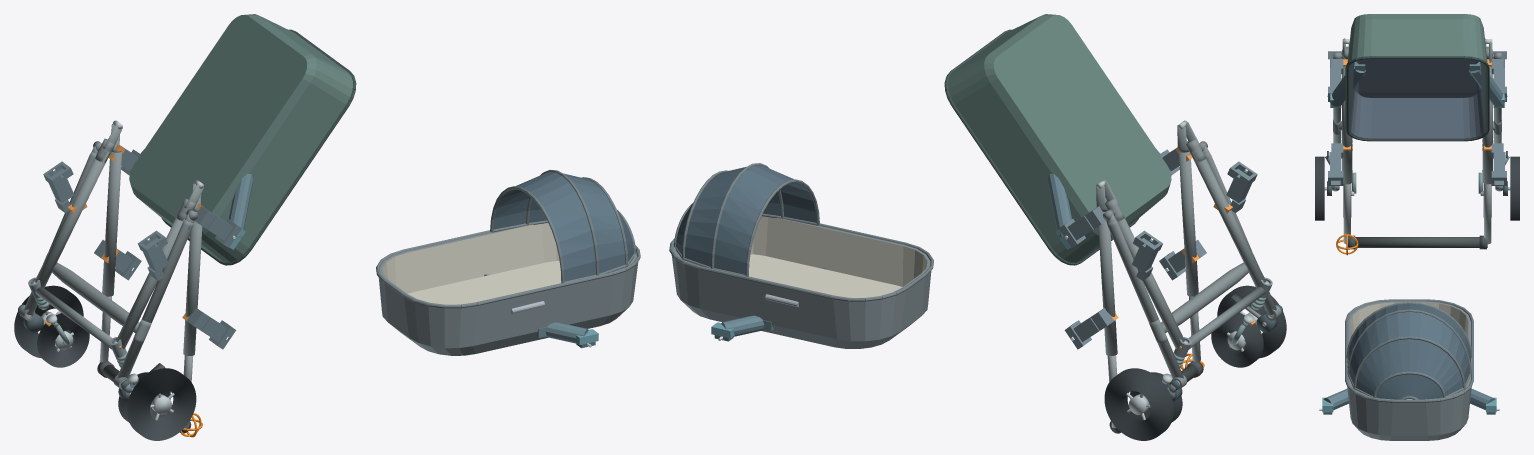
File: D09_w550_state3_wheel_S.glb
3 renders of one model, left to right at view 1: azimuth 30°, elevation 25°; view 2: azimuth 150°, elevation 25°; view 3: azimuth 270°, elevation 25°, orthographic. The views are drawn at different scales.
Visible parts, largest first — view 1: D09_Upper, D09_Lower, RL_tire.004, main_upper_1.005, main_lower_1.005, FR_tire.004, V46_rear_leg_-1.005, main_upper_-1.005, V46_rearbar.005, RR_tire.004, main_lower_-1.005, D09_Upper_Mount_H (+8 smaller); view 2: D09_Upper, D09_Lower, RR_tire.004, main_upper_-1.005, main_lower_-1.005, FL_tire.004, V46_rear_leg_1.005, main_upper_1.005, V46_rearbar.005, main_lower_1.005, RL_tire.004, D09_Upper_Mount_H (+8 smaller); view 3: D09_Lower, D09_Upper, round_handle.004, D09_Lower_Mount_M, D09_Upper_Mount_H, main_upper_1.005, main_upper_-1.005, RL_tire.004, RR_tire.004, Universal_Cabin_Receiver_H_1, Universal_Cabin_Receiver_H_-1, handle_slider_1.004 (+4 smaller).
Boxes of the visible parts, x1=… form: D09_Upper: x1=376, y1=169, x2=640, y2=355; D09_Lower: x1=129, y1=14, x2=356, y2=265; RL_tire.004: x1=127, y1=368, x2=196, y2=440; main_upper_1.005: x1=102, y1=151, x2=121, y2=296; main_lower_1.005: x1=35, y1=151, x2=109, y2=287; FR_tire.004: x1=37, y1=313, x2=89, y2=367; V46_rear_leg_-1.005: x1=117, y1=219, x2=193, y2=378; main_upper_-1.005: x1=183, y1=212, x2=202, y2=355; V46_rearbar.005: x1=52, y1=262, x2=139, y2=332; RR_tire.004: x1=14, y1=285, x2=83, y2=358; main_lower_-1.005: x1=116, y1=217, x2=185, y2=349; D09_Upper_Mount_H: x1=484, y1=274, x2=598, y2=348; D09_Upper: x1=669, y1=163, x2=933, y2=348; D09_Lower: x1=944, y1=14, x2=1171, y2=265; RR_tire.004: x1=1104, y1=368, x2=1173, y2=440; main_upper_-1.005: x1=1179, y1=151, x2=1198, y2=296; main_lower_-1.005: x1=1191, y1=151, x2=1265, y2=287; FL_tire.004: x1=1211, y1=313, x2=1263, y2=367; V46_rear_leg_1.005: x1=1107, y1=220, x2=1183, y2=378; main_upper_1.005: x1=1098, y1=212, x2=1117, y2=355; V46_rearbar.005: x1=1161, y1=262, x2=1248, y2=332; main_lower_1.005: x1=1114, y1=216, x2=1184, y2=348; RL_tire.004: x1=1217, y1=285, x2=1286, y2=358; D09_Upper_Mount_H: x1=711, y1=267, x2=825, y2=341; D09_Lower: x1=1345, y1=14, x2=1489, y2=141; D09_Upper: x1=1345, y1=299, x2=1473, y2=440; round_handle.004: x1=1355, y1=237, x2=1487, y2=247; D09_Lower_Mount_M: x1=1327, y1=62, x2=1507, y2=107; D09_Upper_Mount_H: x1=1319, y1=389, x2=1499, y2=414; main_upper_1.005: x1=1482, y1=66, x2=1492, y2=184; main_upper_-1.005: x1=1342, y1=66, x2=1352, y2=184; RL_tire.004: x1=1315, y1=156, x2=1324, y2=220; RR_tire.004: x1=1510, y1=156, x2=1519, y2=220; Universal_Cabin_Receiver_H_1: x1=1491, y1=143, x2=1506, y2=185; Universal_Cabin_Receiver_H_-1: x1=1328, y1=143, x2=1343, y2=185; handle_slider_1.004: x1=1484, y1=184, x2=1491, y2=244.
Bounding box in the file's own units: 1.72 × 1.02 × 0.641.
